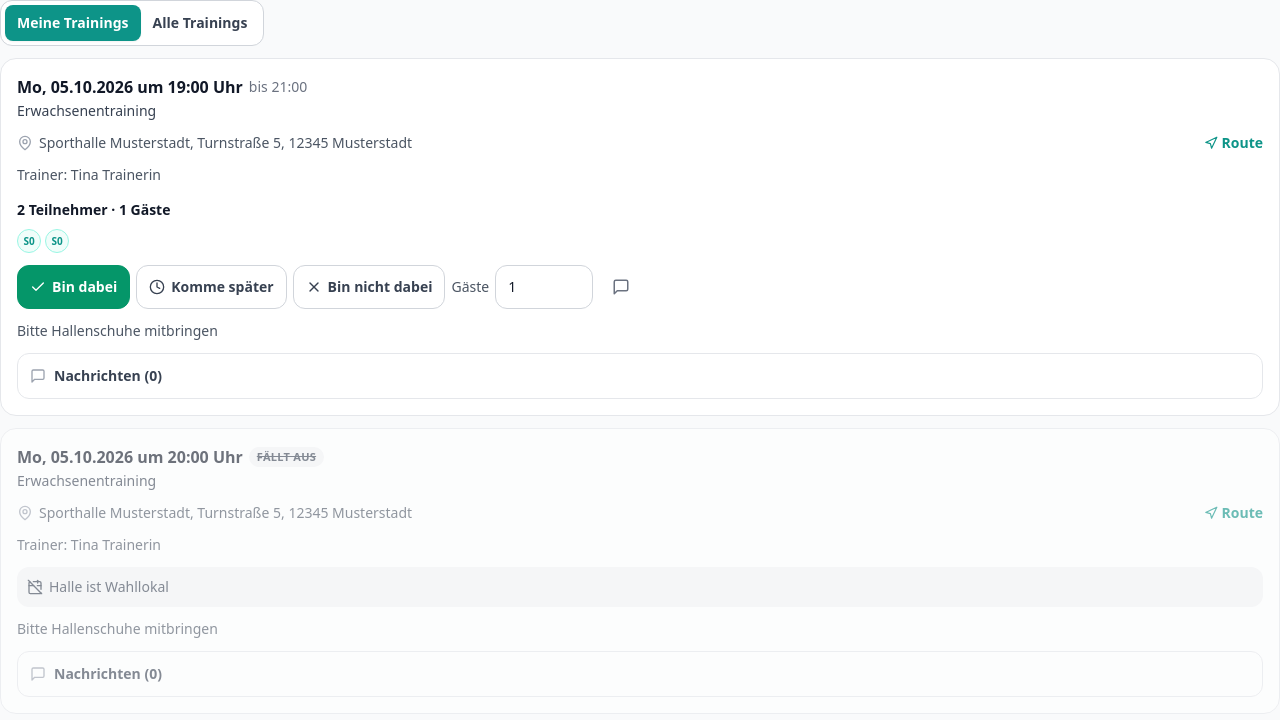
Test: SessionsTab › beginnt mit dem Umschalter bei den eigenen Trainings und zeigt auf Wunsch alle
Expected: the text "Jugendtraining" is not shown
Click the button "Alle Trainings" at {"x": 200, "y": 23}, box 141,5 -> 259,41
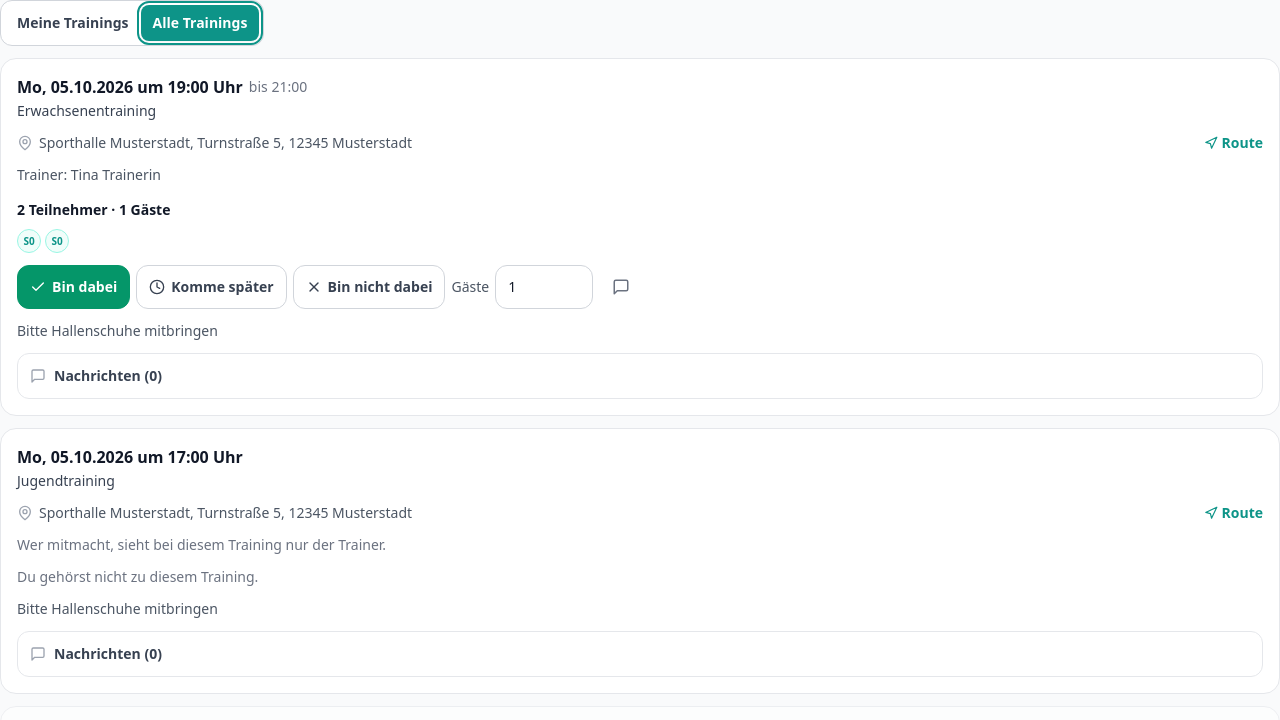
Expected: the text "Jugendtraining" is shown, 17,471 -> 115,490
